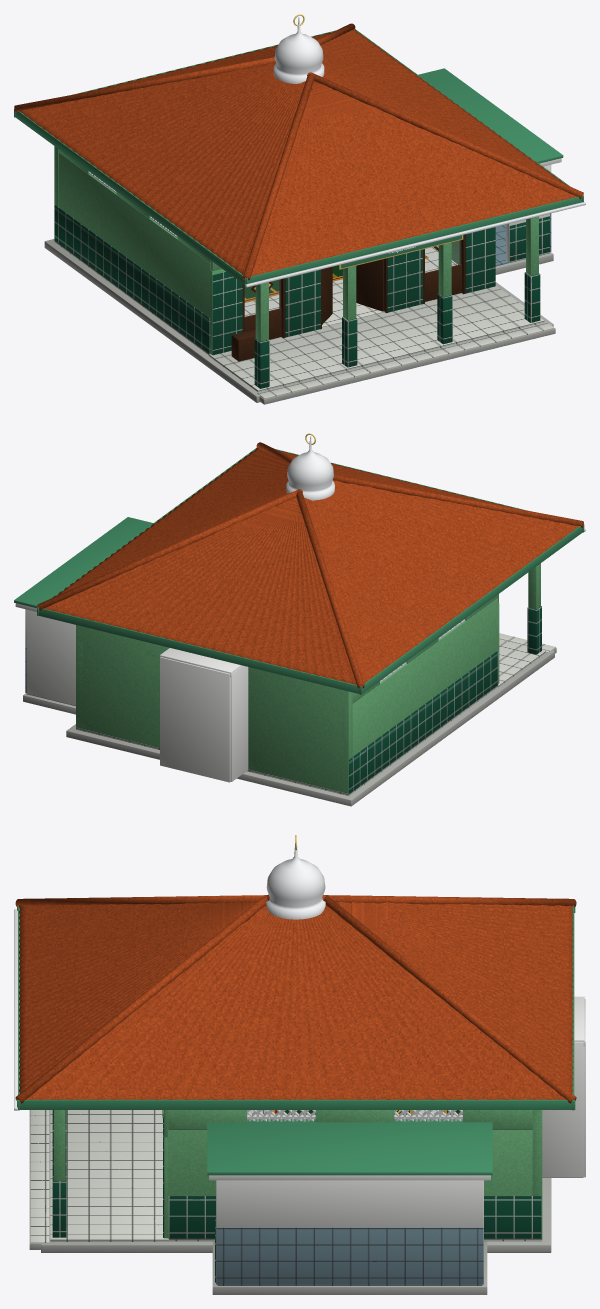
The model's file is indonesian_village_musholla_small_mosque.glb.
3 views of the same model, one above another, from view 1: azimuth 30°, elevation 25°; view 2: azimuth 150°, elevation 25°; view 3: azimuth 270°, elevation 25° (orthographic). The views are drawn at different scales.
Parts seen in each view (by area): view 1: Musholla_Al_Ikhlas; view 2: Musholla_Al_Ikhlas; view 3: Musholla_Al_Ikhlas.
Boxes of the visible parts, x1,y1,x2,y2 form: Musholla_Al_Ikhlas: (14,14,585,404); Musholla_Al_Ikhlas: (14,433,585,806); Musholla_Al_Ikhlas: (14,835,585,1294).
Bounding box in the file's own units: 11.25 × 7.43 × 11.66.
16 materials, 7 textured.
